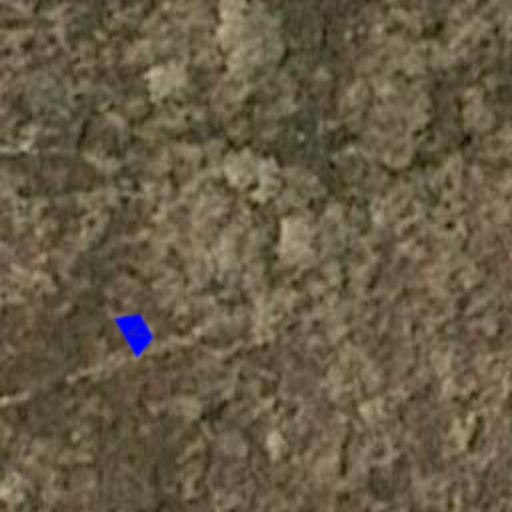trapezoid: (104, 300, 168, 364)
